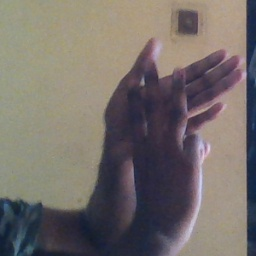M: (98, 34, 247, 229)
